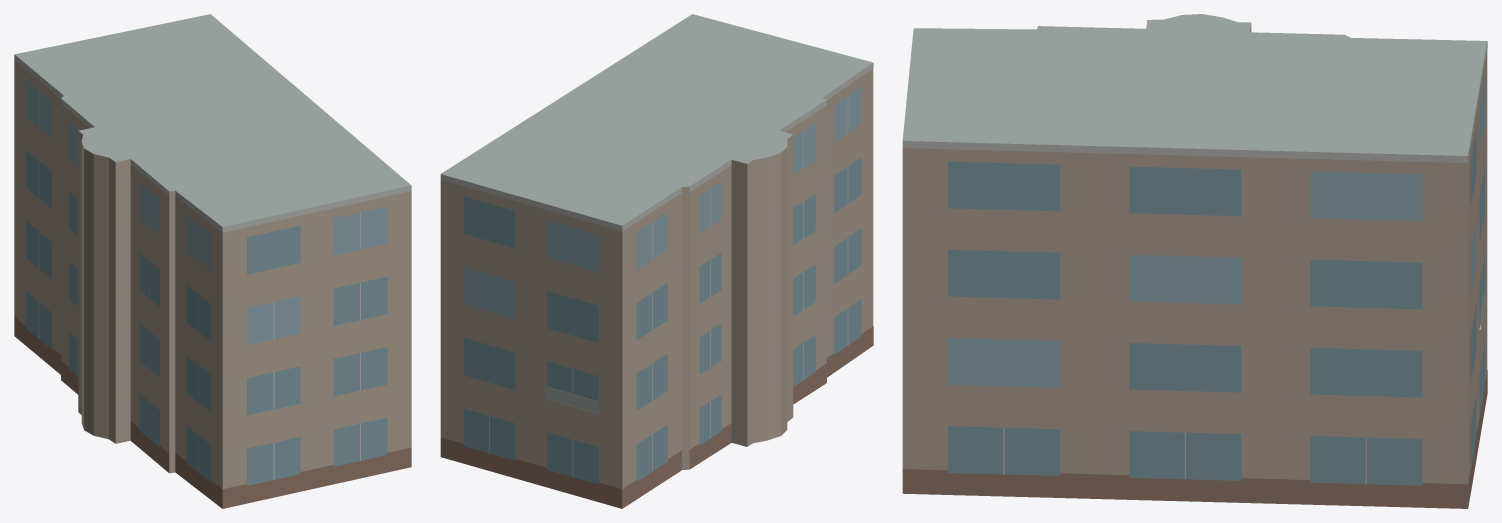
File: survey-upis-32589535.glb
The picture shows the model from 3 angles, left to right: view 1: azimuth 30°, elevation 25°; view 2: azimuth 150°, elevation 25°; view 3: azimuth 270°, elevation 25°; orthographic projection. The views are drawn at different scales.
Parts seen in each view (by area): view 1: survey-upis-32589535.tmp; view 2: survey-upis-32589535.tmp; view 3: survey-upis-32589535.tmp.
Part boxes in pixels (box(x1,y1,x2,y2)): survey-upis-32589535.tmp: box(14, 14, 411, 508); survey-upis-32589535.tmp: box(440, 14, 873, 508); survey-upis-32589535.tmp: box(902, 14, 1487, 508).
Bounding box in the file's own units: 10.55 × 12.2 × 18.34.
